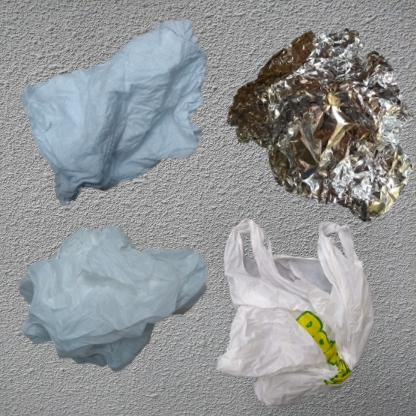aluminio: (213, 10, 416, 232)
bolsa: (10, 213, 226, 388), (213, 213, 383, 416)
papel: (10, 10, 265, 230)
